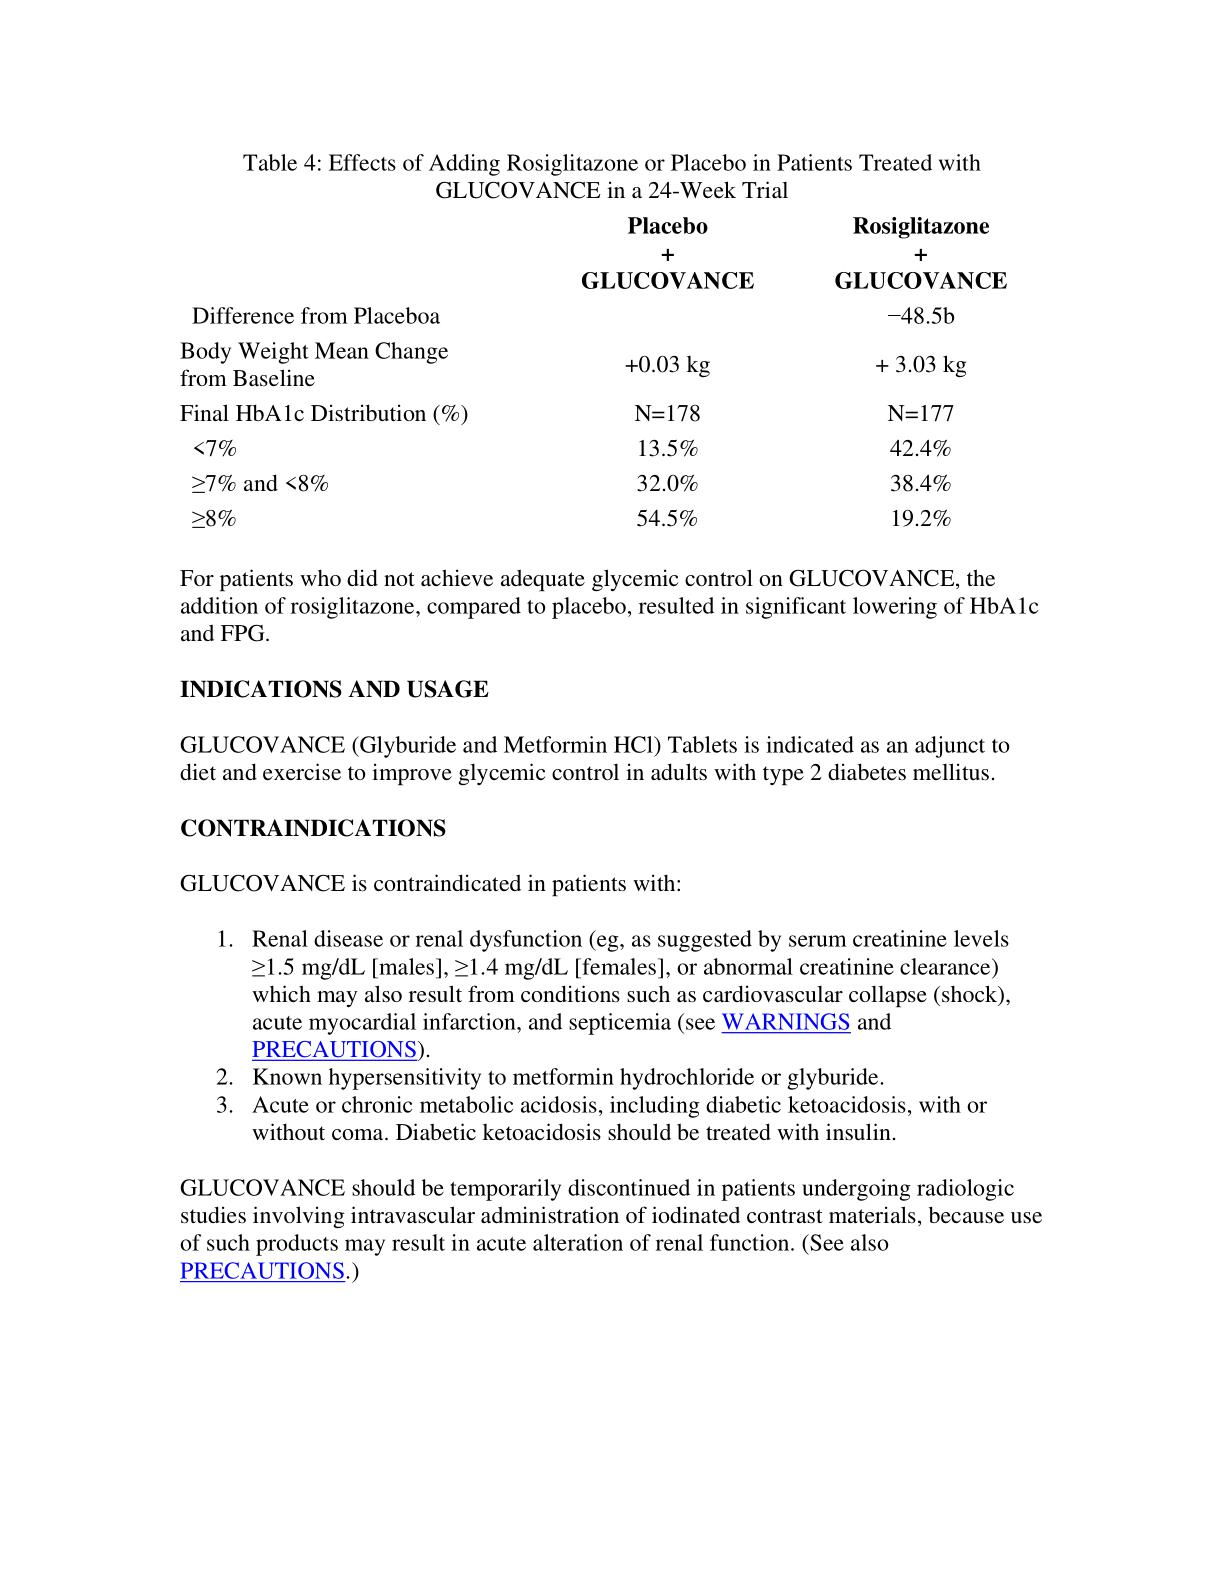nolines: (176, 213, 1008, 534)
